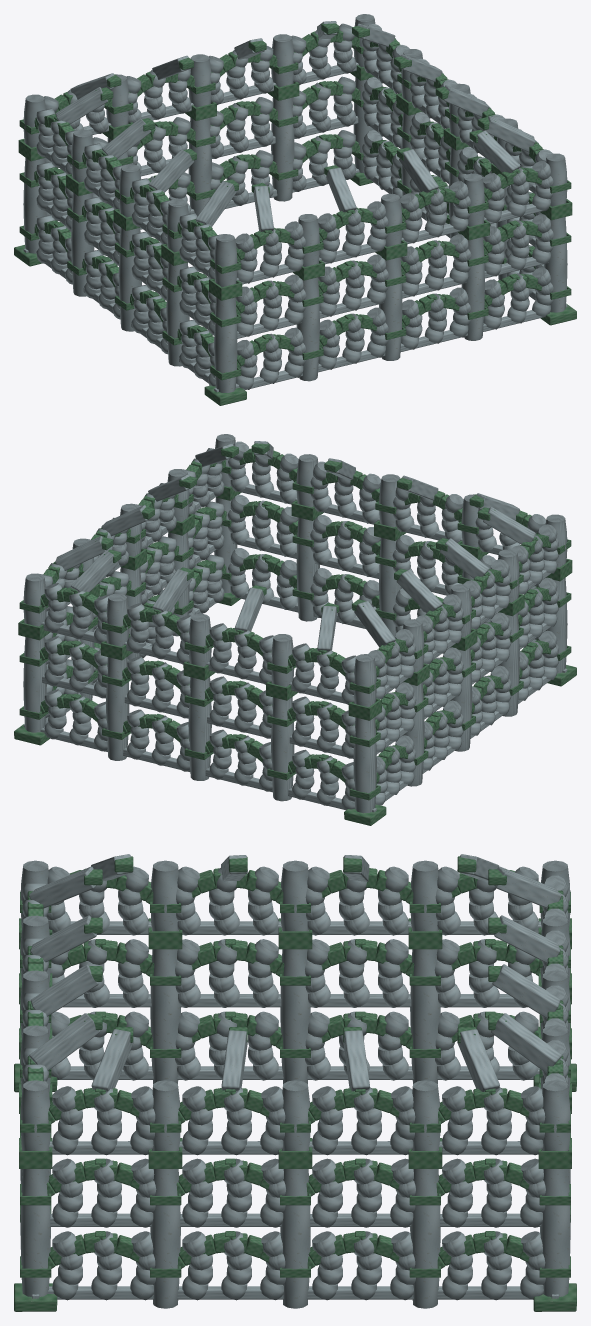
3 renders of one model, top to bottom at view 1: azimuth 30°, elevation 25°; view 2: azimuth 150°, elevation 25°; view 3: azimuth 270°, elevation 25°, orthographic. The views are drawn at different scales.
Parts seen in each view (by area): view 1: Tier 0 side 0 post 0, Tier 0 side 2 post 1, Tier 0 side 2 post 2, Tier 0 side 0 post 2, Tier 0 side 0 post 3, Tier 0 side 0 post 1, Tier 0 side 1 post 0, Tier 0 side 3 post 3, Tier 0 side 3 post 1, Tier 0 side 3 post 2, Tier 0 side 3 post 0, Tier 1 side 0 post 0 (+25 smaller); view 2: Tier 0 side 3 post 0, Tier 0 side 2 post 2, Tier 0 side 2 post 3, Tier 0 side 2 post 1, Tier 0 side 2 post 0, Tier 0 side 0 post 3, Tier 0 side 0 post 2, Tier 1 side 3 post 0, Tier 0 side 3 post 1, Tier 0 side 3 post 3, Tier 0 side 3 post 2, Tier 1 side 2 post 0 (+28 smaller); view 3: Tier 0 side 1 post 3, Tier 0 side 1 post 2, Tier 0 side 1 post 1, Tier 0 side 1 post 0, Tier 0 side 3 post 3, Tier 0 side 3 post 1, Tier 0 side 3 post 2, Tier 0 side 2 post 0, Crown petal 2-0, Tier 1 side 1 post 0, Crown petal 0-3, Tier 1 side 2 post 0 (+50 smaller).
Part boxes in pixels (x1,y1,x2,y2): Tier 0 side 0 post 0: [214, 297, 237, 392]; Tier 0 side 2 post 1: [271, 97, 294, 201]; Tier 0 side 2 post 2: [188, 117, 211, 216]; Tier 0 side 0 post 2: [379, 257, 402, 360]; Tier 0 side 0 post 3: [461, 237, 484, 340]; Tier 0 side 0 post 1: [296, 277, 319, 381]; Tier 0 side 1 post 0: [544, 217, 567, 312]; Tier 0 side 3 post 3: [166, 262, 189, 366]; Tier 0 side 3 post 1: [71, 192, 94, 296]; Tier 0 side 3 post 2: [118, 227, 141, 331]; Tier 0 side 3 post 0: [23, 157, 46, 253]; Tier 1 side 0 post 0: [214, 234, 237, 287]; Tier 0 side 3 post 0: [353, 717, 376, 813]; Tier 0 side 2 post 2: [188, 677, 211, 780]; Tier 0 side 2 post 3: [271, 697, 294, 801]; Tier 0 side 2 post 1: [106, 657, 129, 760]; Tier 0 side 2 post 0: [23, 636, 46, 732]; Tier 0 side 0 post 3: [296, 517, 319, 621]; Tier 0 side 0 post 2: [379, 537, 401, 637]; Tier 1 side 3 post 0: [354, 654, 376, 707]; Tier 0 side 3 post 1: [402, 682, 424, 786]; Tier 0 side 3 post 3: [498, 612, 519, 716]; Tier 0 side 3 post 2: [450, 647, 472, 751]; Tier 1 side 2 post 0: [23, 573, 46, 626]; Tier 0 side 1 post 3: [410, 1169, 440, 1308]; Tier 0 side 1 post 2: [280, 1169, 310, 1308]; Tier 0 side 1 post 1: [150, 1169, 180, 1308]; Tier 0 side 1 post 0: [20, 1169, 50, 1296]; Tier 0 side 3 post 3: [150, 949, 180, 1083]; Tier 0 side 3 post 1: [410, 949, 440, 1083]; Tier 0 side 3 post 2: [280, 949, 310, 1083]; Tier 0 side 2 post 0: [540, 1169, 570, 1296]; Crown petal 2-0: [491, 1013, 561, 1073]; Tier 1 side 1 post 0: [20, 1080, 50, 1151]; Crown petal 0-3: [29, 1013, 99, 1070]; Tier 1 side 2 post 0: [542, 1080, 570, 1151].
Bounding box in the file's own units: 1.95 × 0.9573 × 1.95.
2 materials, 2 textured.
